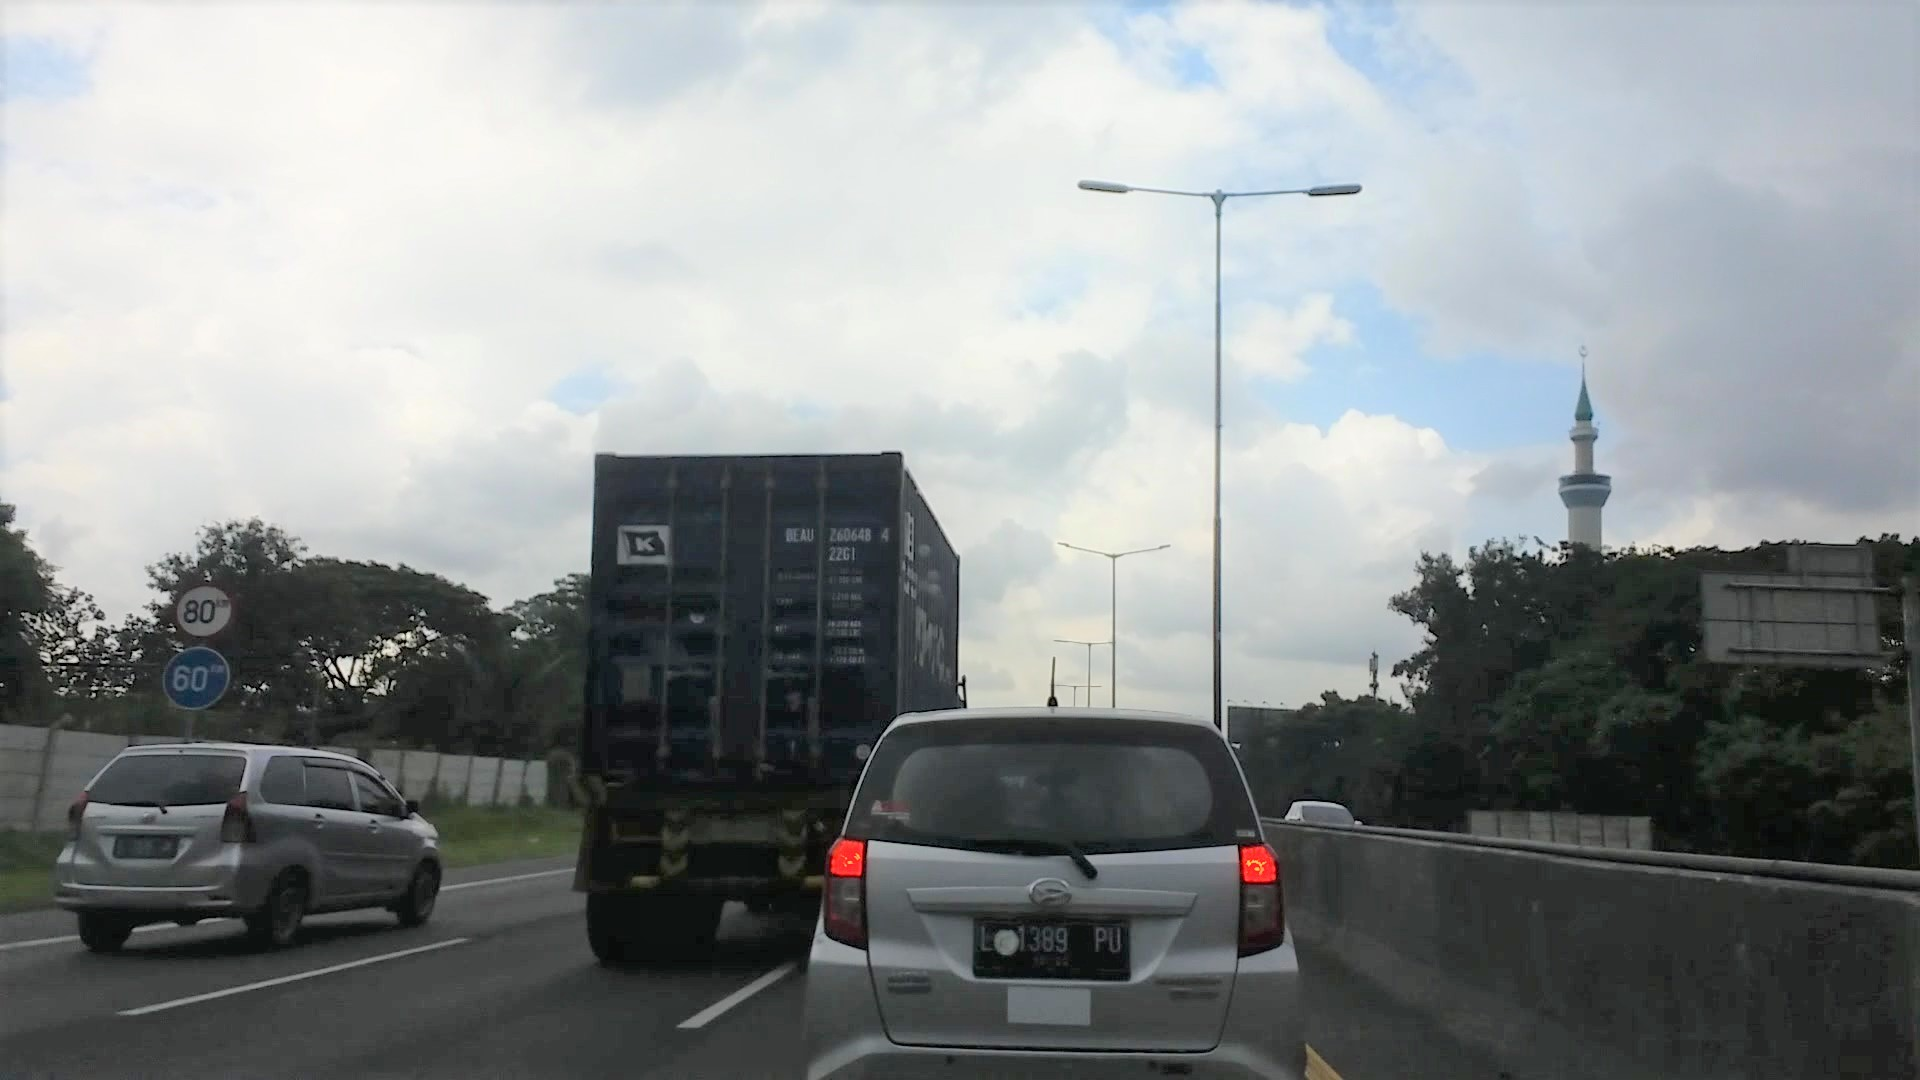plate_positive: (972, 915, 1129, 980)
